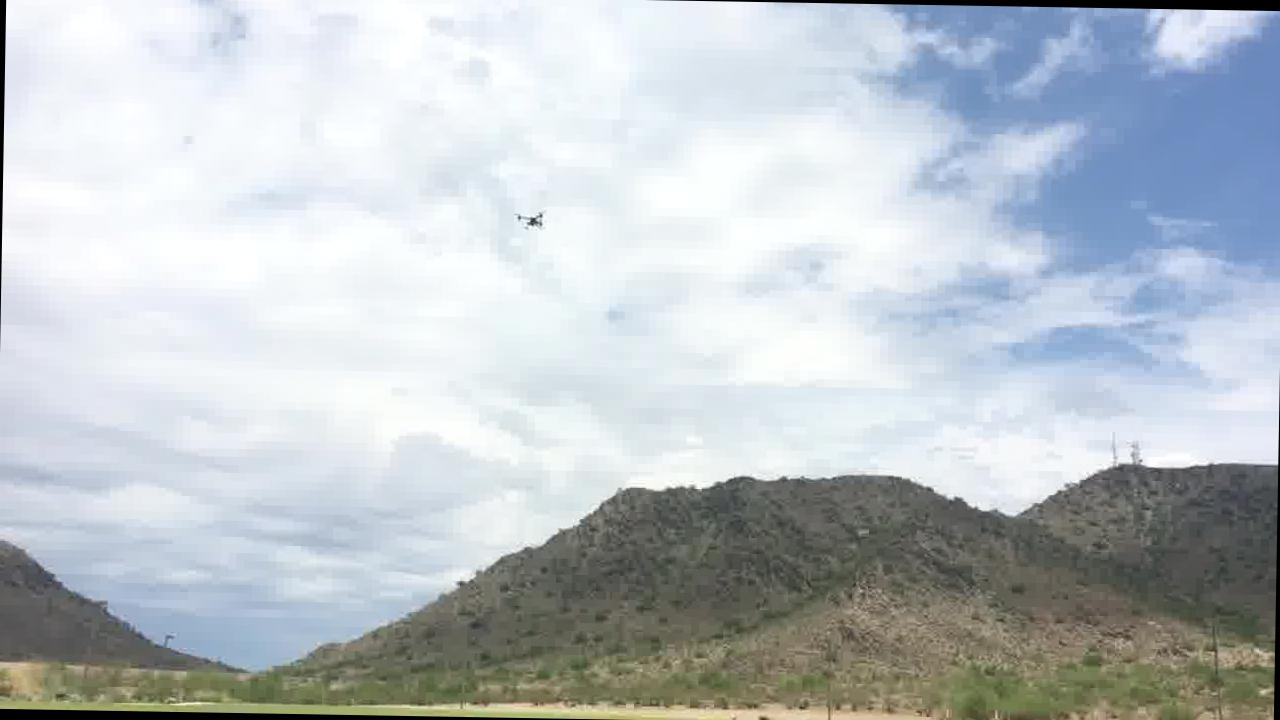drone: (514, 206, 546, 230)
